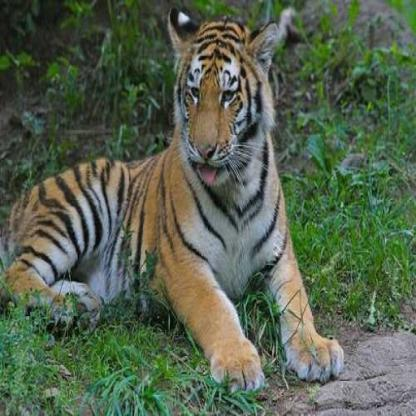Tiger: (3, 0, 376, 405)
